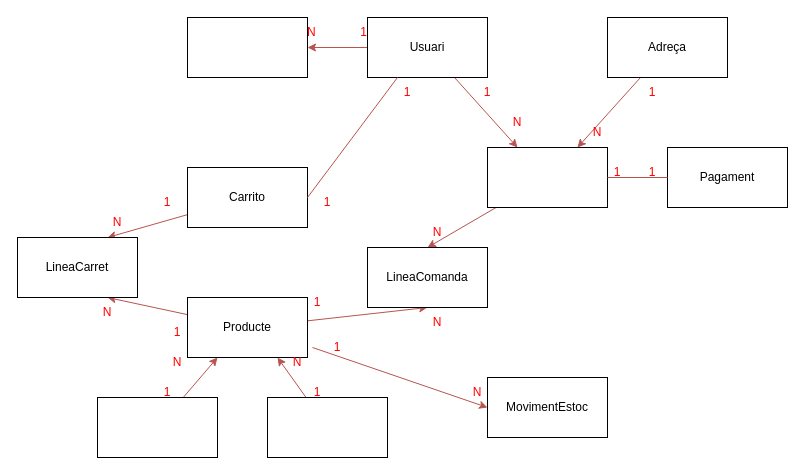
Image size: 805x475. Some labels were removed from this diagram. The centre of each missing label's shape, as x and y in pixels:
"Categoria" goes at point 157,427.
"Comanda" goes at point 547,177.
"Proveidor" goes at point 327,427.
"Ressenya" goes at point 247,47.
